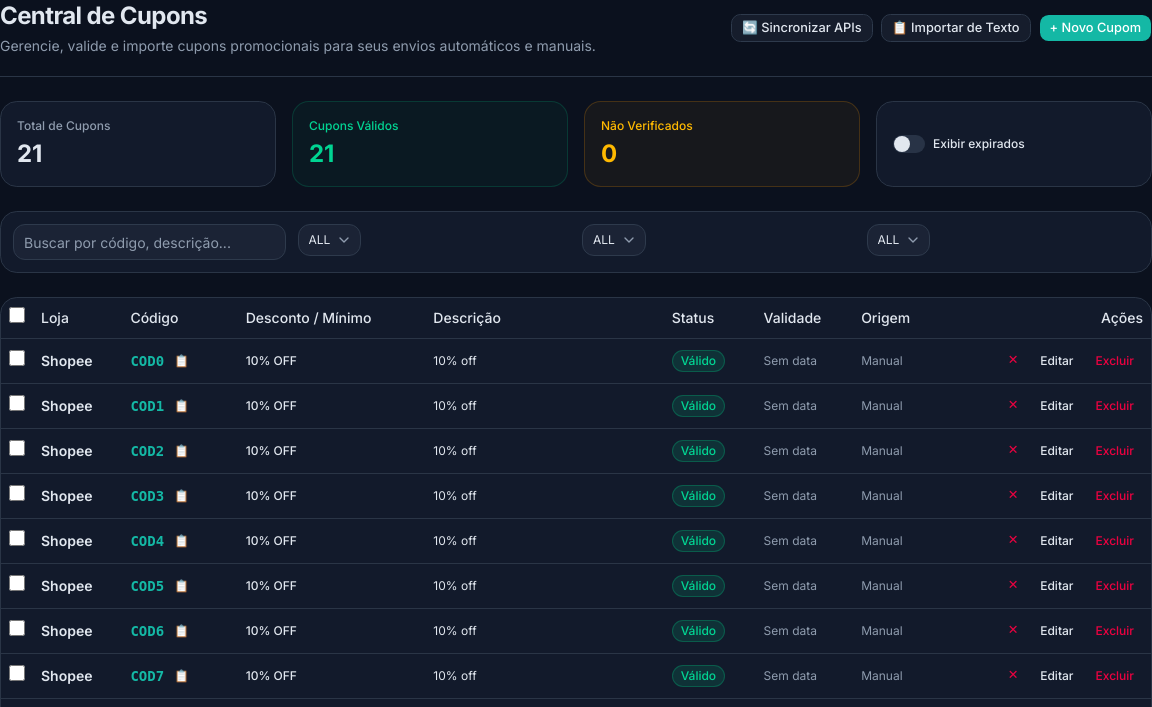
Scenario: seleção e despacho de cupons › acima de 20 cupons "Enviar agora" fica desabilitado e mostra a dica
Expected: the text "COD0" is shown, x1=130 y1=350 x2=164 y2=370
Step 1. Click the checkbox named "Selecionar todos os cupons" → click(17, 315), box x1=9 y1=307 x2=25 y2=323
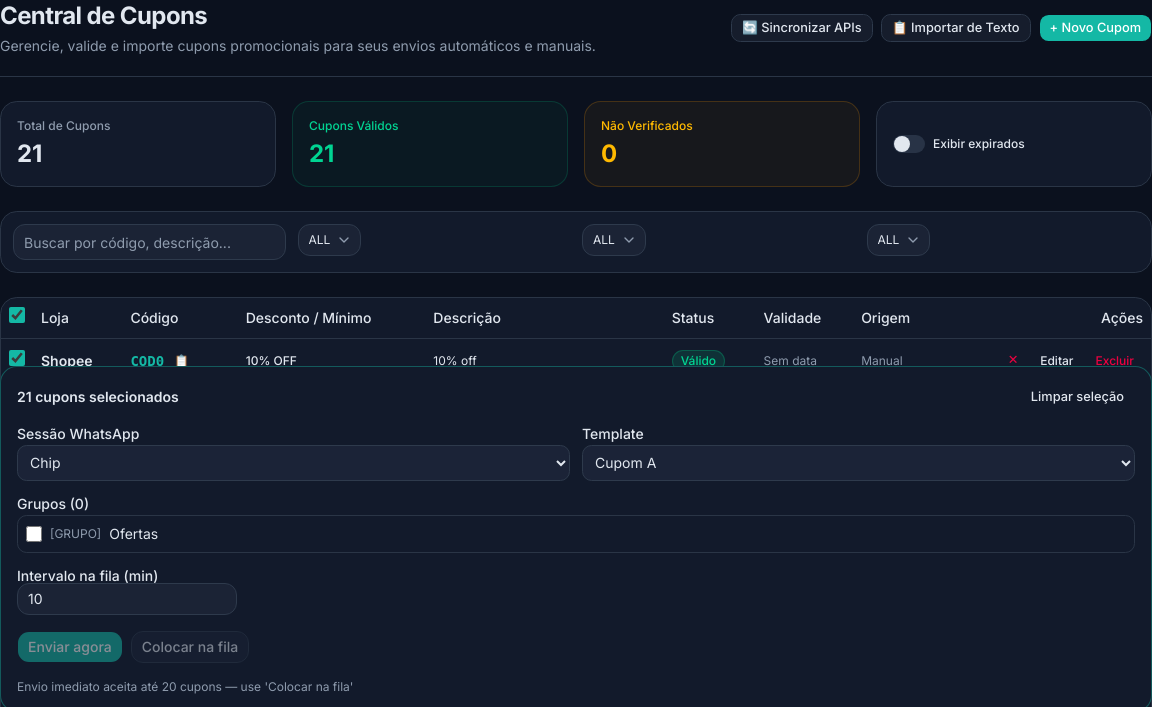
Step 2. Click the checkbox labelled "[GRUPO] Ofertas" → click(34, 534), box x1=26 y1=526 x2=42 y2=542
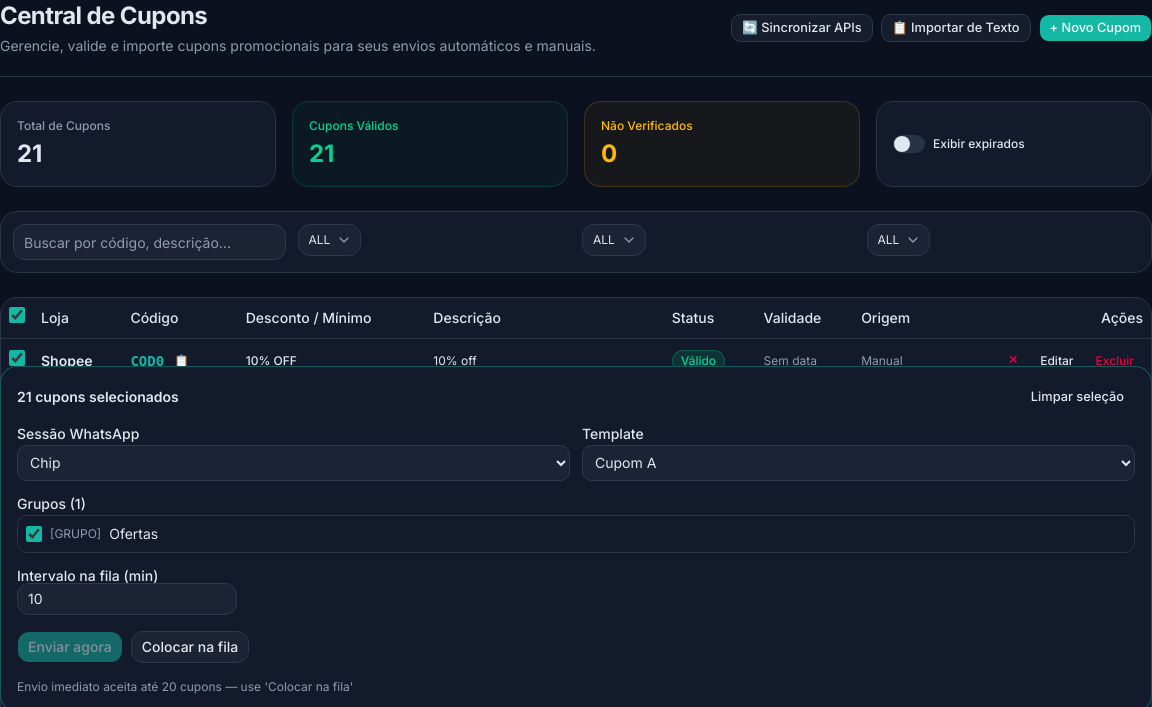
Result: the button "Enviar agora" is disabled at x1=17 y1=631 x2=123 y2=663
Result: the text "Envio imediato aceita até 20 cupons — use 'Colocar na fila'" is shown at x1=17 y1=679 x2=354 y2=694
Result: the button "Colocar na fila" is enabled at x1=131 y1=631 x2=249 y2=663
